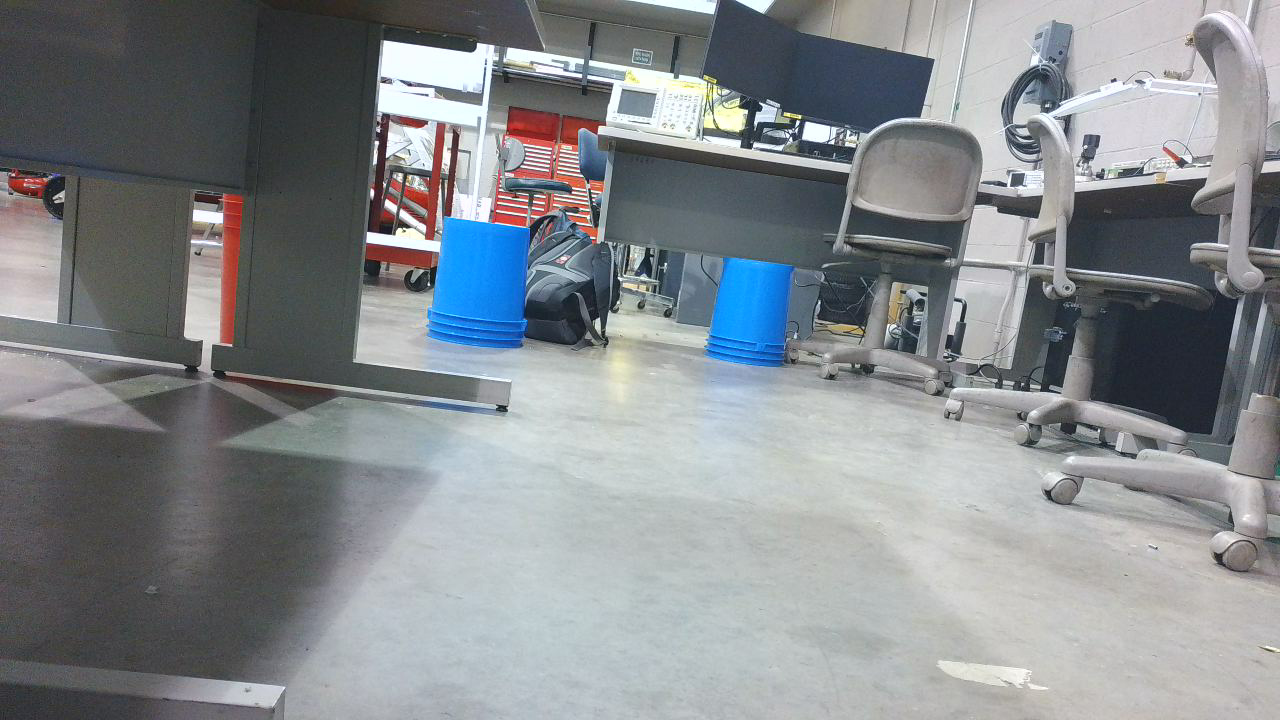blue_bucket: (429, 220, 540, 355), (710, 257, 798, 373)
